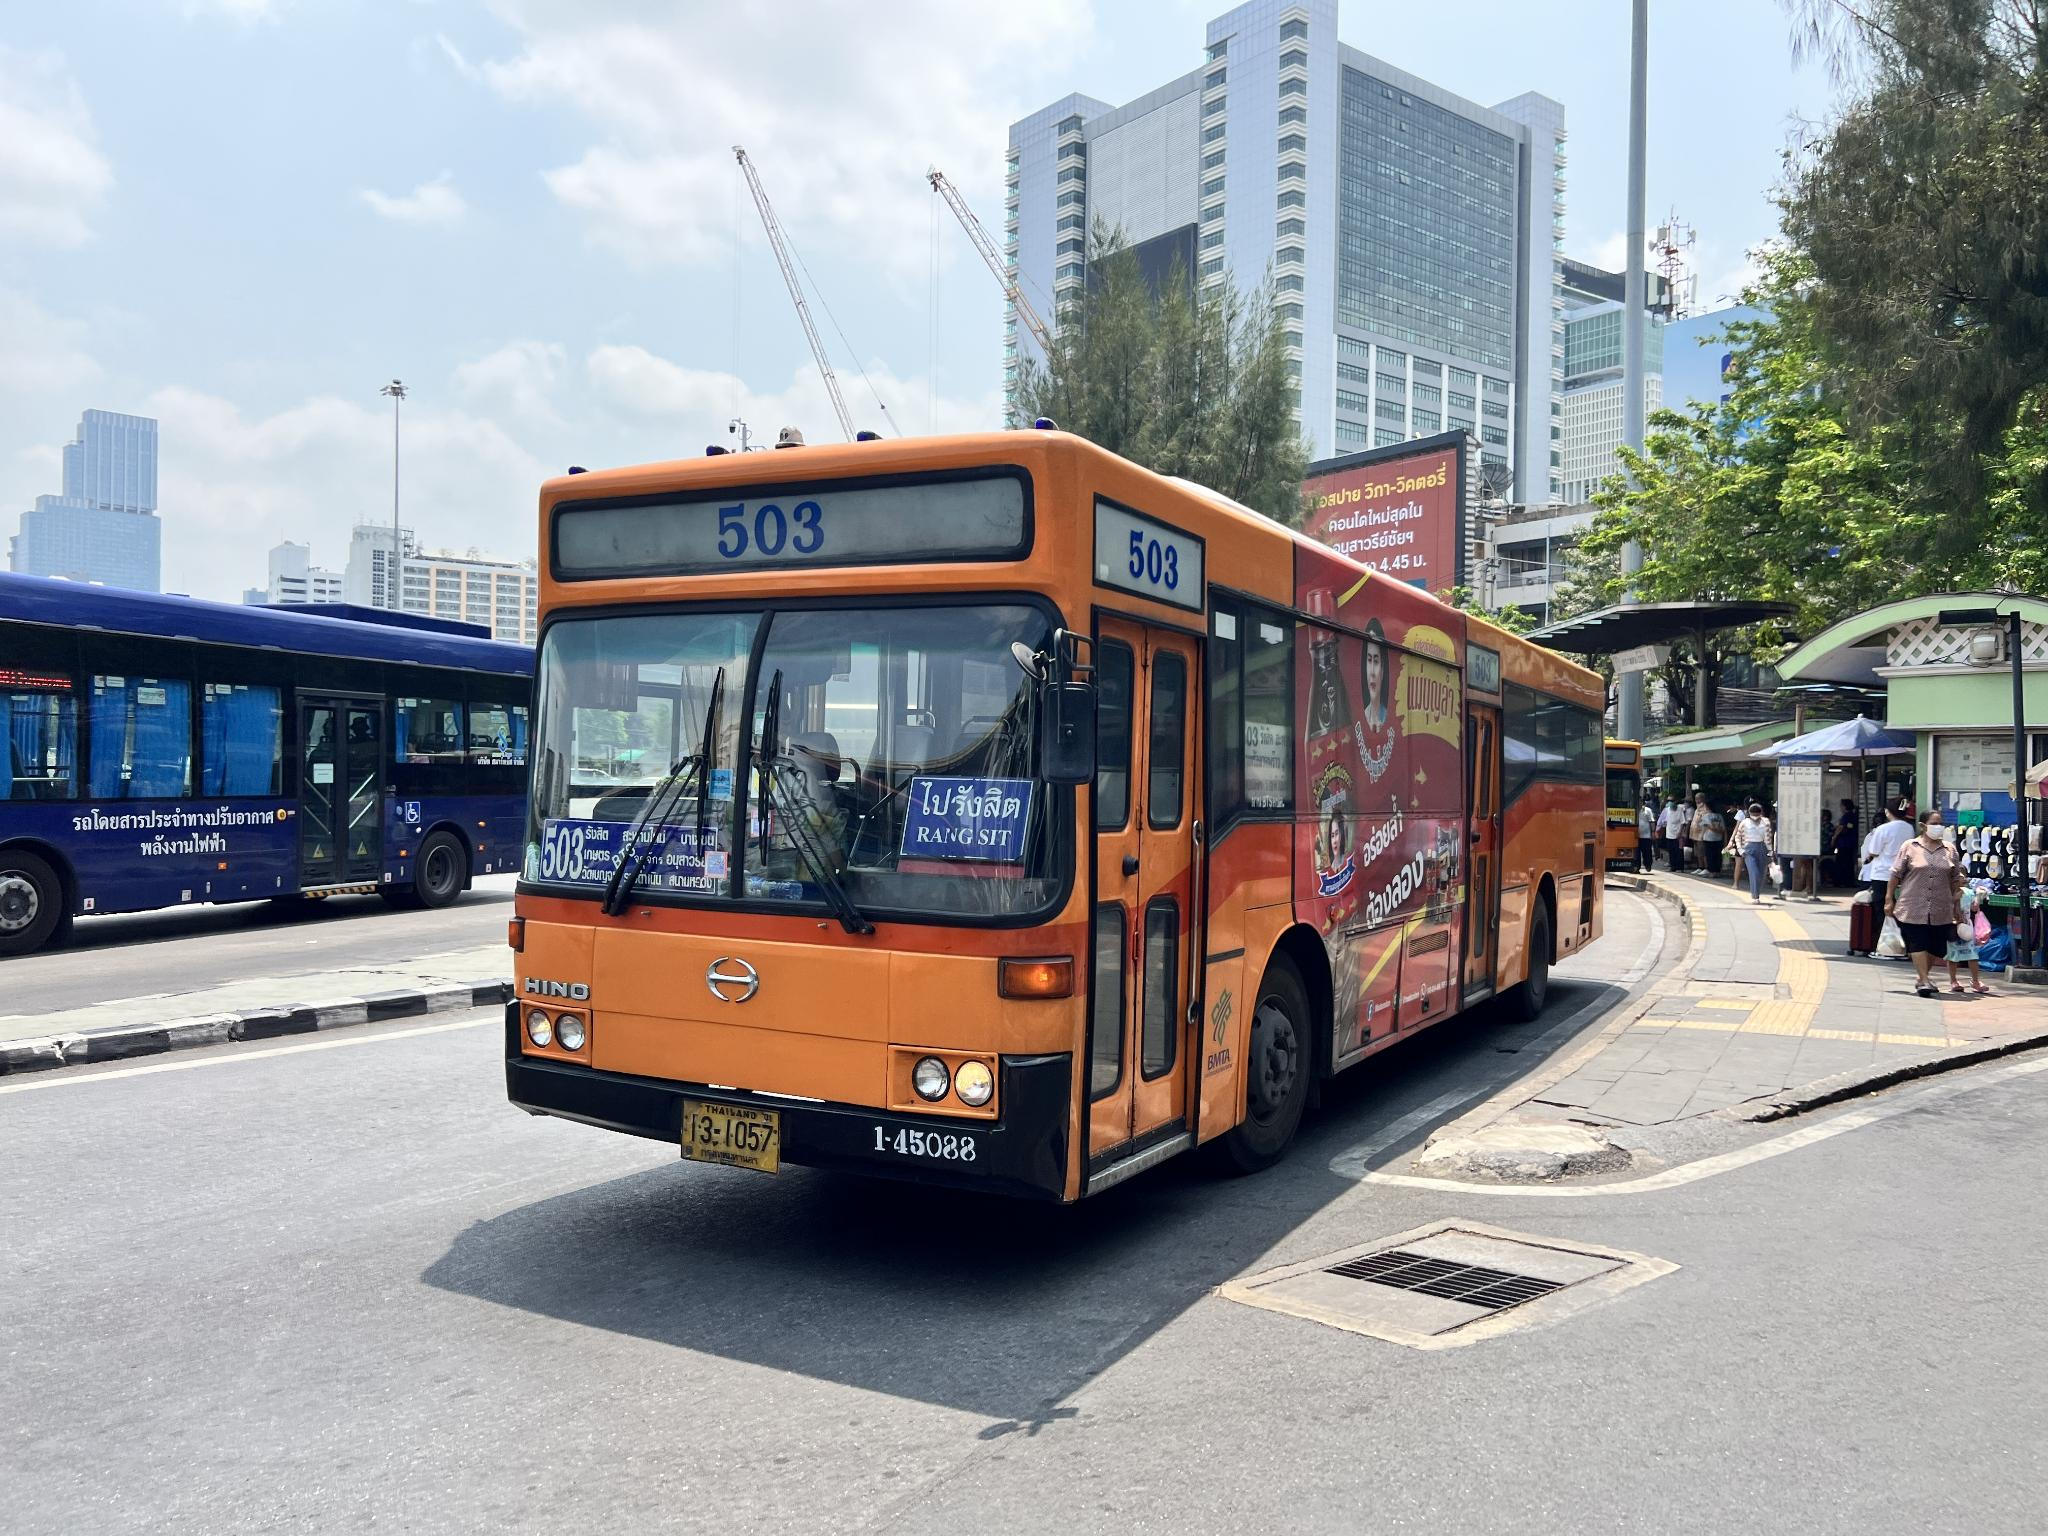BMTA-bus: (503, 432, 1614, 1212)
Bus Line Number: (697, 487, 845, 568)
Bus Side Number: (856, 1123, 984, 1170)
Destination Sign: (906, 766, 1042, 866)
TSB-Bus: (0, 576, 537, 957)
